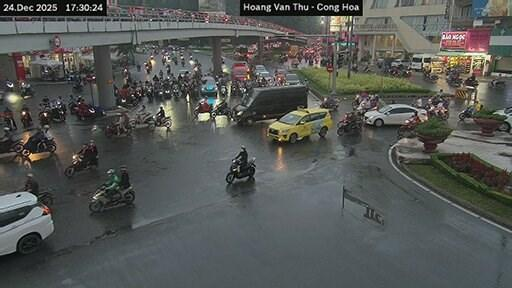motorbike: (89, 185, 134, 211), (224, 157, 255, 183), (64, 153, 96, 176), (21, 136, 56, 156), (336, 116, 361, 135), (130, 112, 156, 129), (396, 118, 418, 138), (38, 108, 64, 124), (105, 121, 131, 136), (73, 106, 105, 118), (38, 185, 54, 207), (0, 139, 22, 153), (115, 95, 137, 107), (195, 99, 211, 115), (38, 189, 53, 206), (211, 104, 230, 117), (3, 112, 16, 130), (19, 82, 34, 97), (153, 116, 170, 129), (428, 106, 448, 117), (19, 111, 31, 126), (51, 108, 64, 121), (457, 106, 472, 117), (320, 98, 336, 108), (54, 99, 66, 112), (422, 72, 438, 81), (445, 77, 460, 85), (144, 86, 153, 99), (71, 81, 83, 90), (163, 86, 172, 98), (464, 77, 477, 85), (487, 80, 505, 85), (3, 80, 12, 90), (220, 85, 227, 97), (135, 63, 140, 71), (362, 67, 371, 71), (146, 67, 150, 73), (181, 59, 184, 66)
